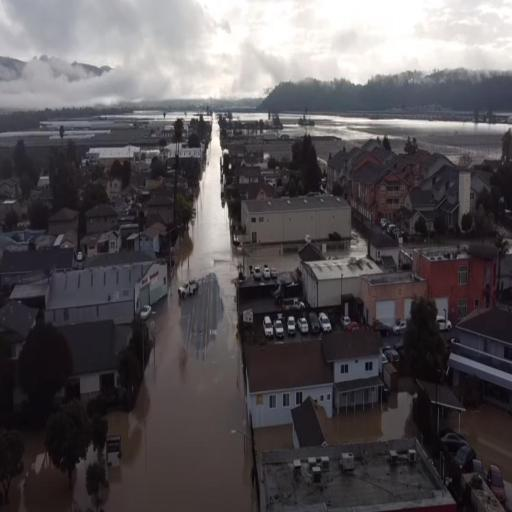flood: (104, 108, 253, 511), (0, 428, 96, 512), (307, 112, 512, 135), (332, 392, 413, 444), (462, 404, 512, 485), (254, 425, 293, 457), (214, 108, 269, 120), (278, 112, 304, 125)
house: (244, 340, 334, 430), (448, 307, 512, 422), (242, 191, 352, 249), (416, 244, 498, 320), (325, 325, 388, 414), (354, 160, 411, 235), (304, 258, 381, 310), (366, 270, 428, 332), (118, 254, 170, 325), (426, 159, 460, 225), (85, 204, 120, 232), (48, 207, 79, 233), (146, 195, 174, 218), (239, 164, 263, 186)
